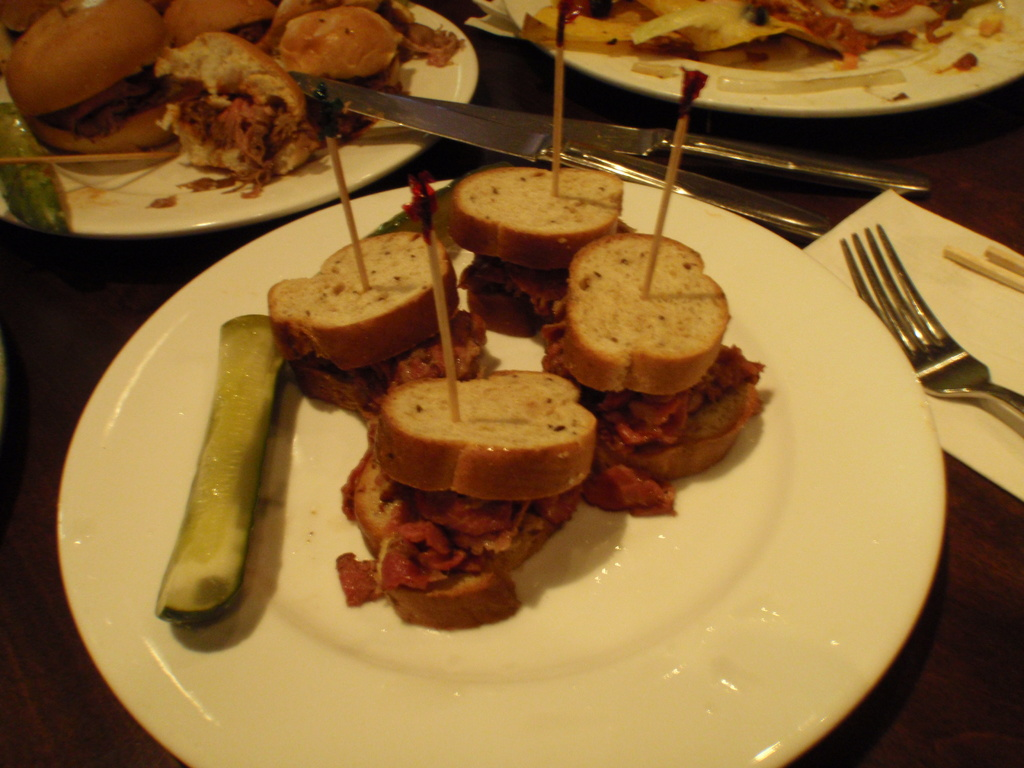Hamburger: (7, 0, 174, 160), (159, 29, 320, 180), (277, 14, 396, 123), (155, 0, 286, 54)
